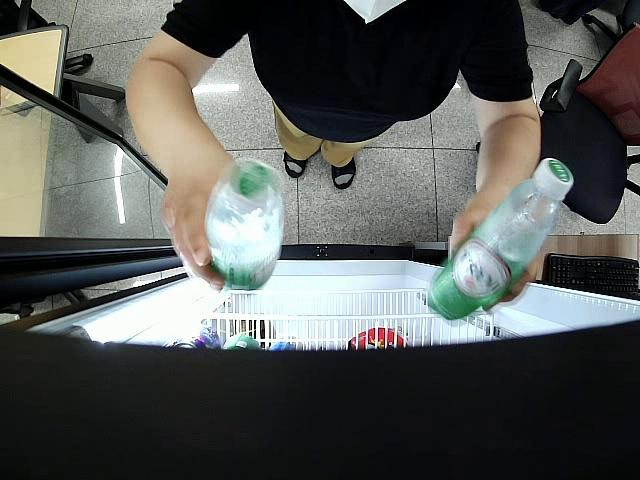00_hand: (446, 197, 546, 306), (164, 157, 240, 284)
18_trevi: (425, 159, 573, 321), (206, 159, 285, 293)
